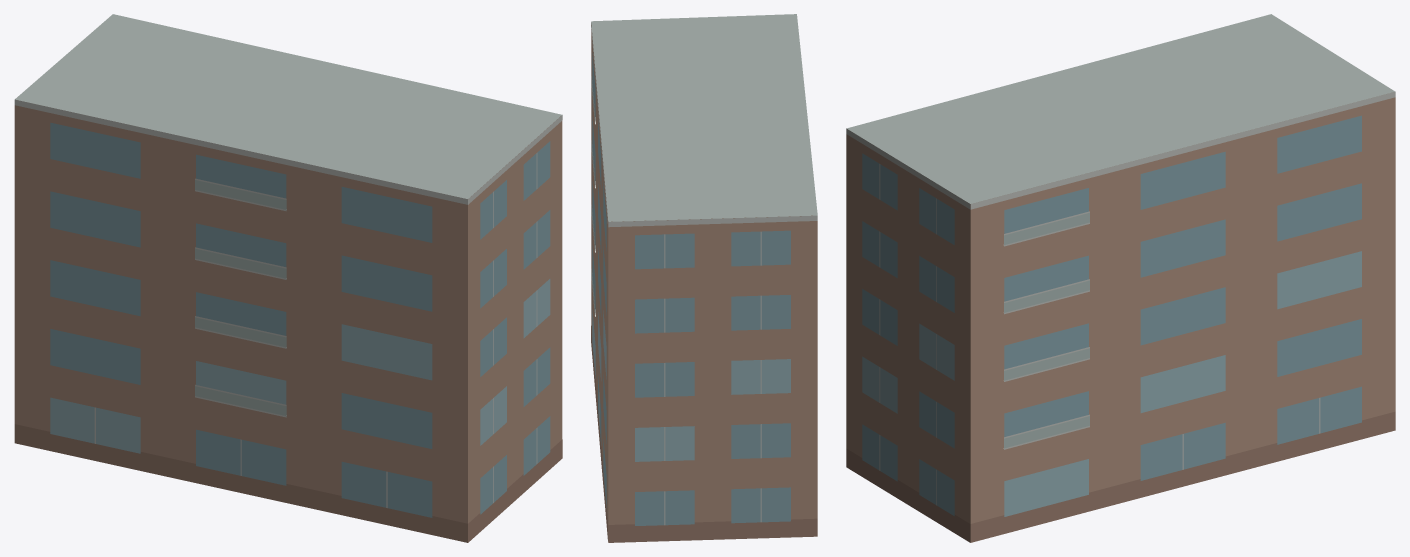
The model's file is survey-upis-32822806.glb.
3 views of the same model, side by side, from view 1: azimuth 30°, elevation 25°; view 2: azimuth 150°, elevation 25°; view 3: azimuth 270°, elevation 25° (orthographic). The views are drawn at different scales.
Visible parts, largest first — view 1: survey-upis-32822806.tmp; view 2: survey-upis-32822806.tmp; view 3: survey-upis-32822806.tmp.
Boxes of the visible parts, x1,y1,x2,y2 form: survey-upis-32822806.tmp: (14, 14, 562, 542); survey-upis-32822806.tmp: (591, 14, 817, 542); survey-upis-32822806.tmp: (846, 14, 1395, 542).
Bounding box in the file's own units: 17.72 × 14.72 × 21.63.
